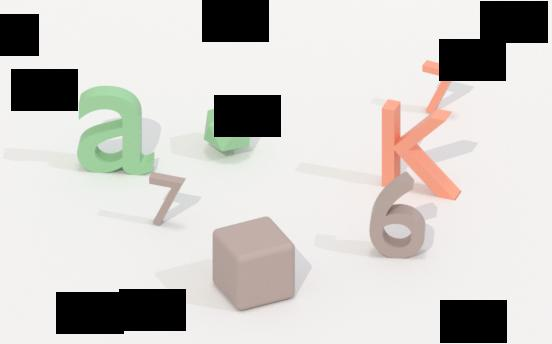6: (366, 177, 437, 265)
7: (418, 58, 464, 121), (148, 171, 189, 233)
a: (75, 84, 150, 180)
dagiac: (199, 100, 257, 159)
hop: (207, 216, 304, 316)
k: (374, 95, 466, 205)
